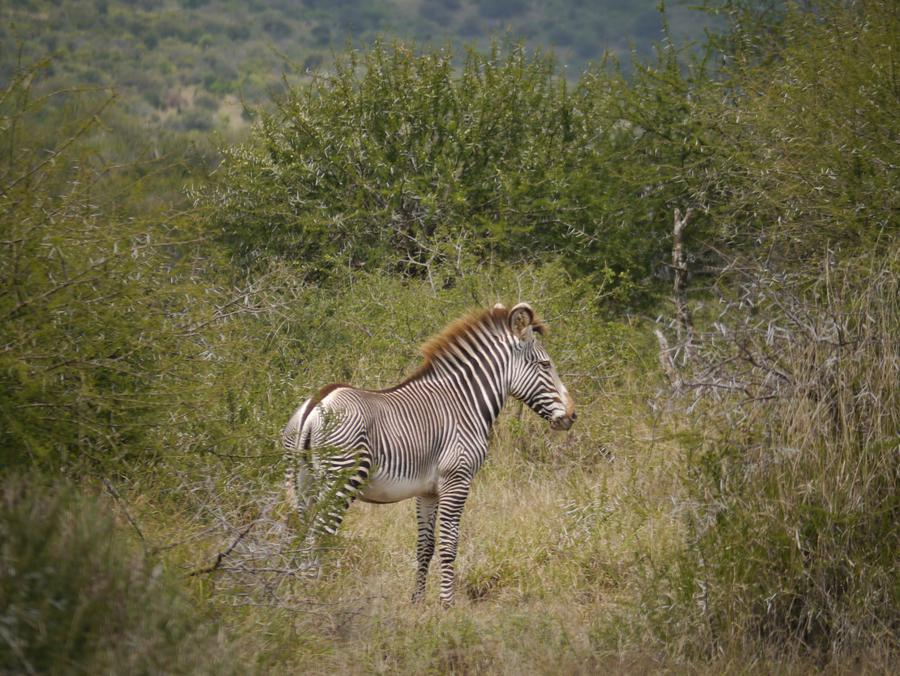zebra_grevys: (301, 381, 480, 487)
